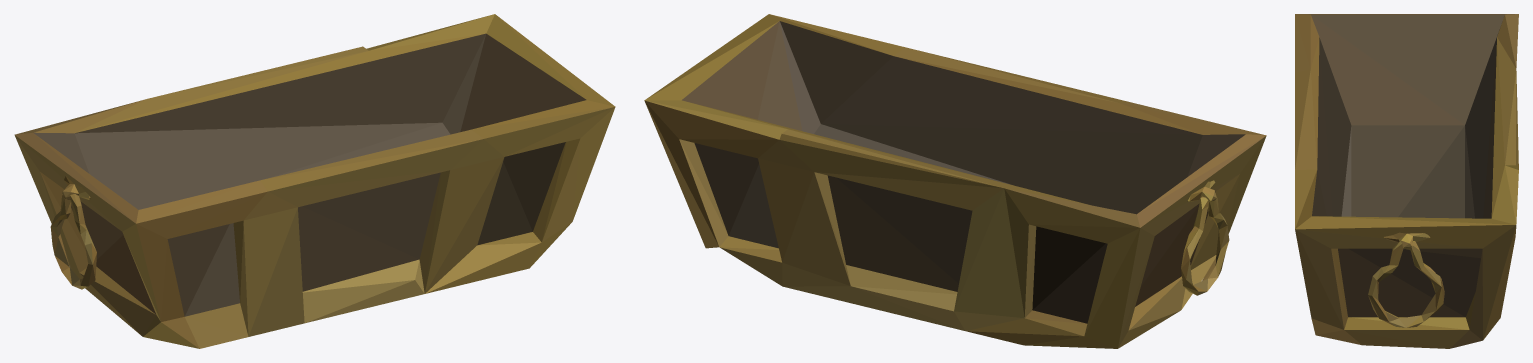
Rendered from Chest-C_Bottom.fbx.
3 views of the same model, side by side, from view 1: azimuth 30°, elevation 25°; view 2: azimuth 150°, elevation 25°; view 3: azimuth 270°, elevation 25° (orthographic). The views are drawn at different scales.
Parts seen in each view (by area): view 1: Chest-C_Bottom; view 2: Chest-C_Bottom; view 3: Chest-C_Bottom.
Boxes of the visible parts, box(x1,y1,x2,y2) form: Chest-C_Bottom: box(14, 14, 615, 348); Chest-C_Bottom: box(644, 14, 1266, 348); Chest-C_Bottom: box(1295, 14, 1518, 348).
Size of the model in its own units: 162 by 48.29 by 68.07.
